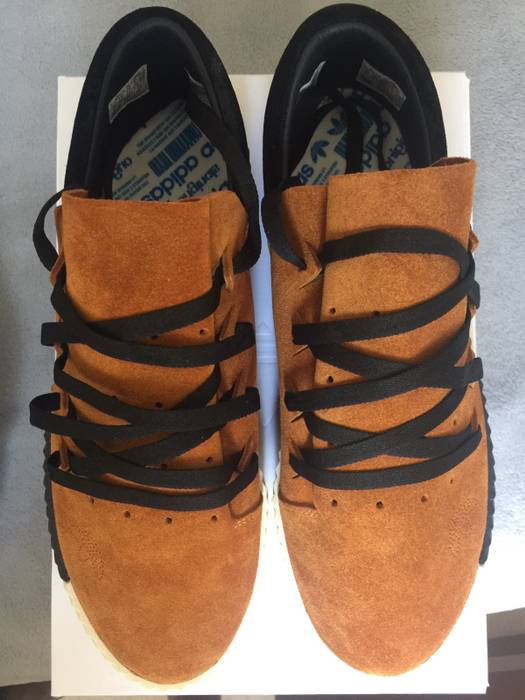adidas AW Skate Sand: (245, 1, 505, 687), (21, 1, 265, 694)
